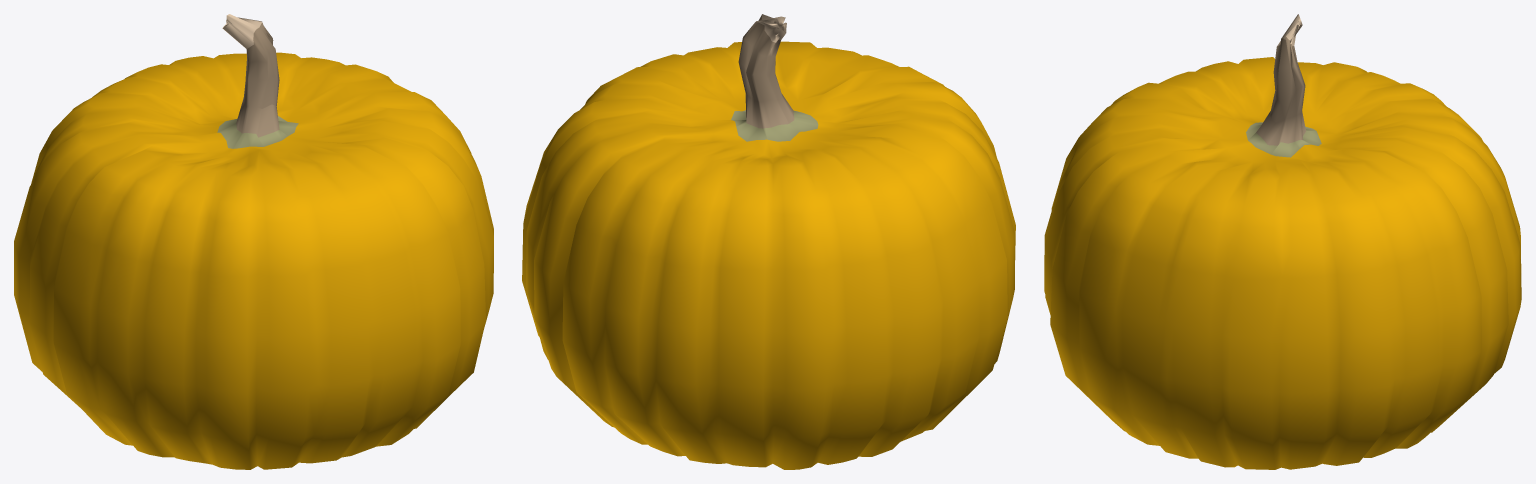
Rendered from balkabai.fbx.
3 views of the same model, side by side, from view 1: azimuth 30°, elevation 25°; view 2: azimuth 150°, elevation 25°; view 3: azimuth 270°, elevation 25° (orthographic). The views are drawn at different scales.
Parts seen in each view (by area): view 1: Pumpkin:Layer1; view 2: Pumpkin:Layer1; view 3: Pumpkin:Layer1.
Part boxes in pixels (x1,y1,x2,y2): Pumpkin:Layer1: (14,14,493,469); Pumpkin:Layer1: (522,14,1015,469); Pumpkin:Layer1: (1044,14,1521,469).
Size of the model in its own units: 124 by 115 by 125.
